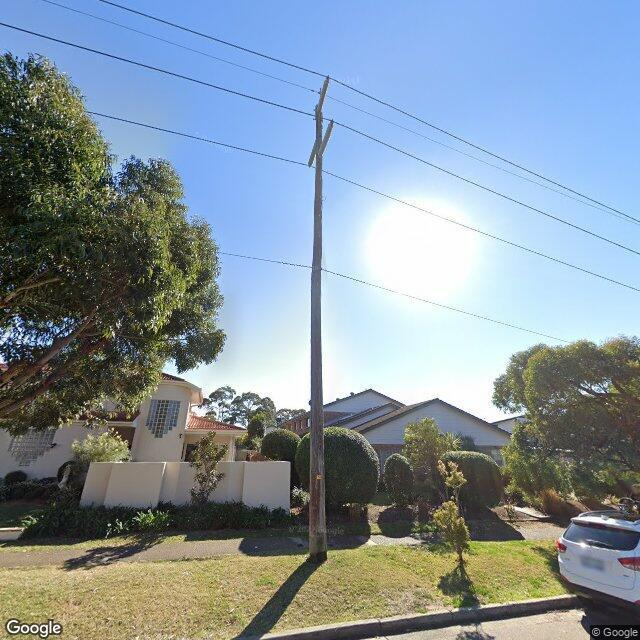HV-transmission: (309, 76, 335, 168)
timber-pole: (309, 108, 328, 560)
